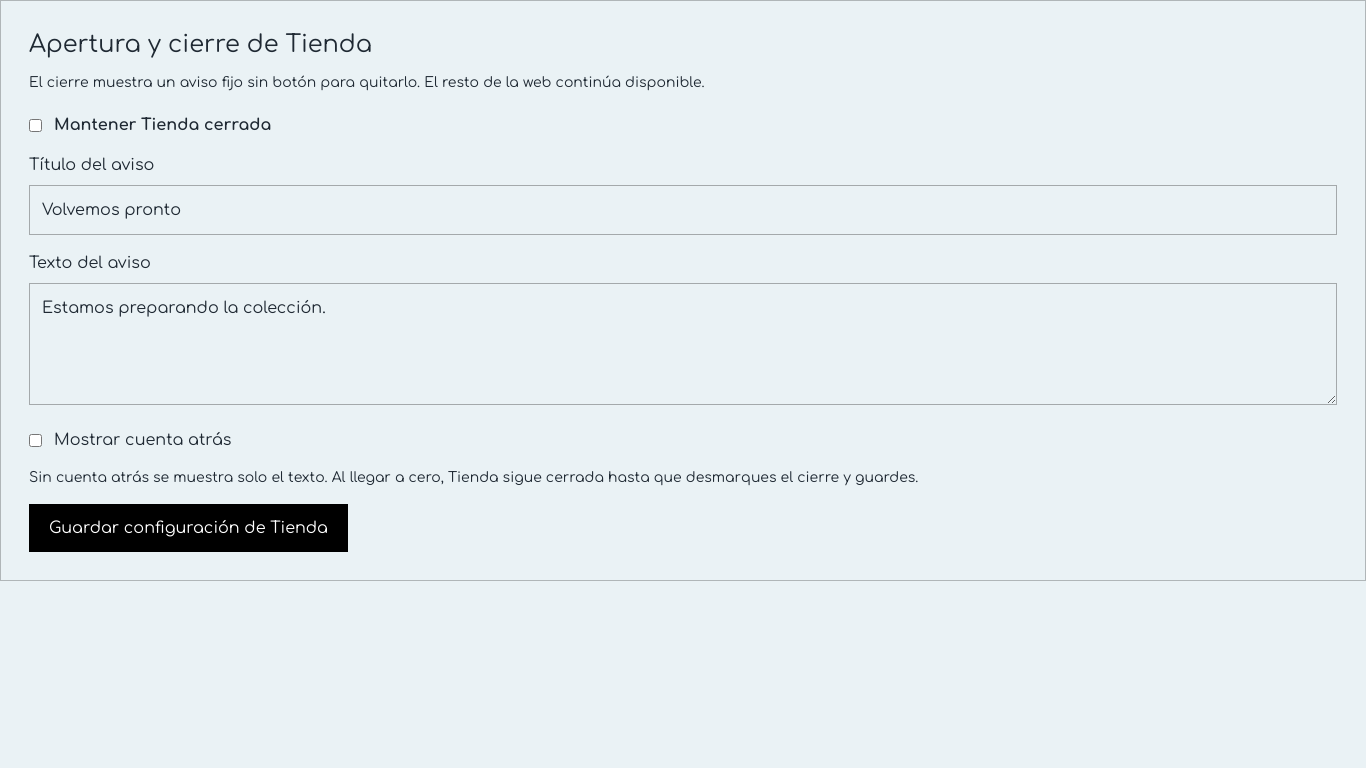
Test: AdminShopSettings › conserva los datos escritos si falla el guardado
The image size is (1366, 768).
Replace the text in the text box labelled "Texto del aviso" with "Aviso actualizado": (683, 344) x1=29 y1=283 x2=1337 y2=405
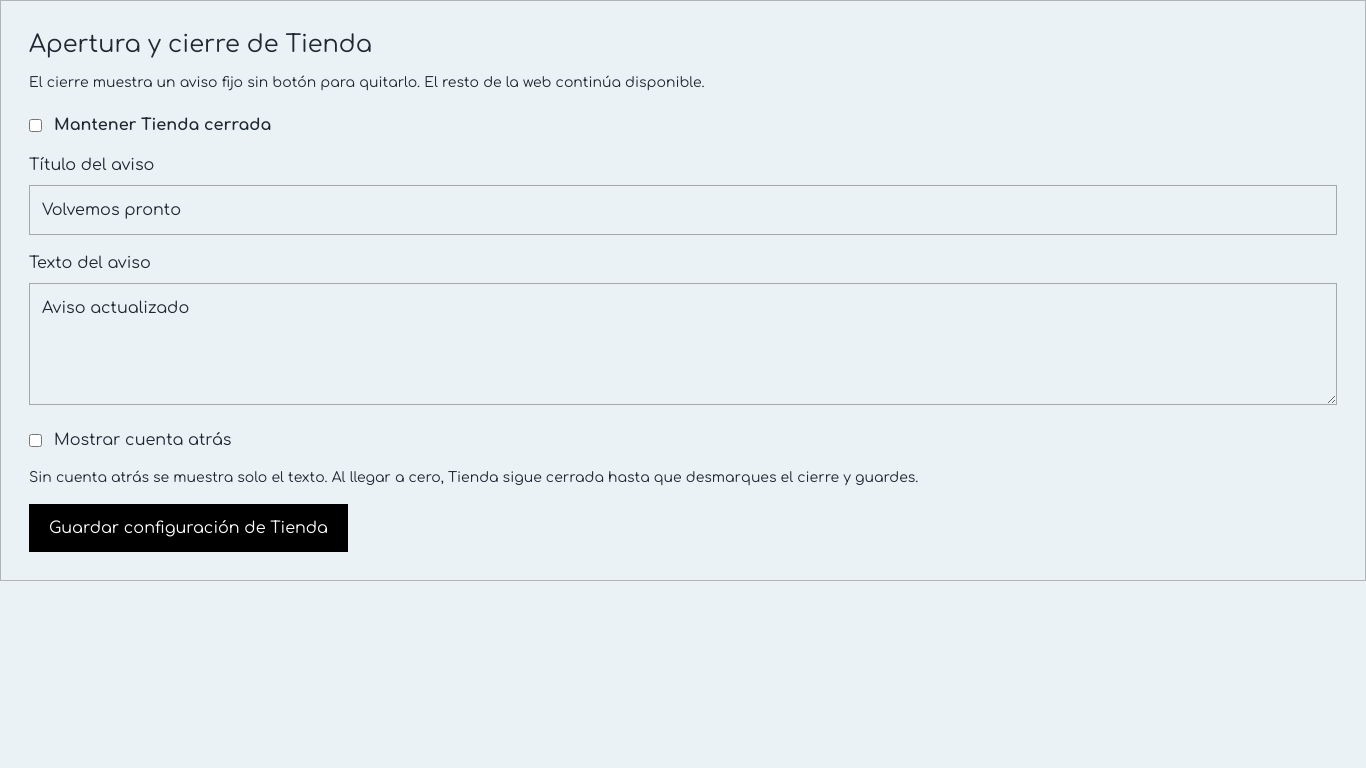
Submit the form, box x1=29 y1=113 x2=1337 y2=552
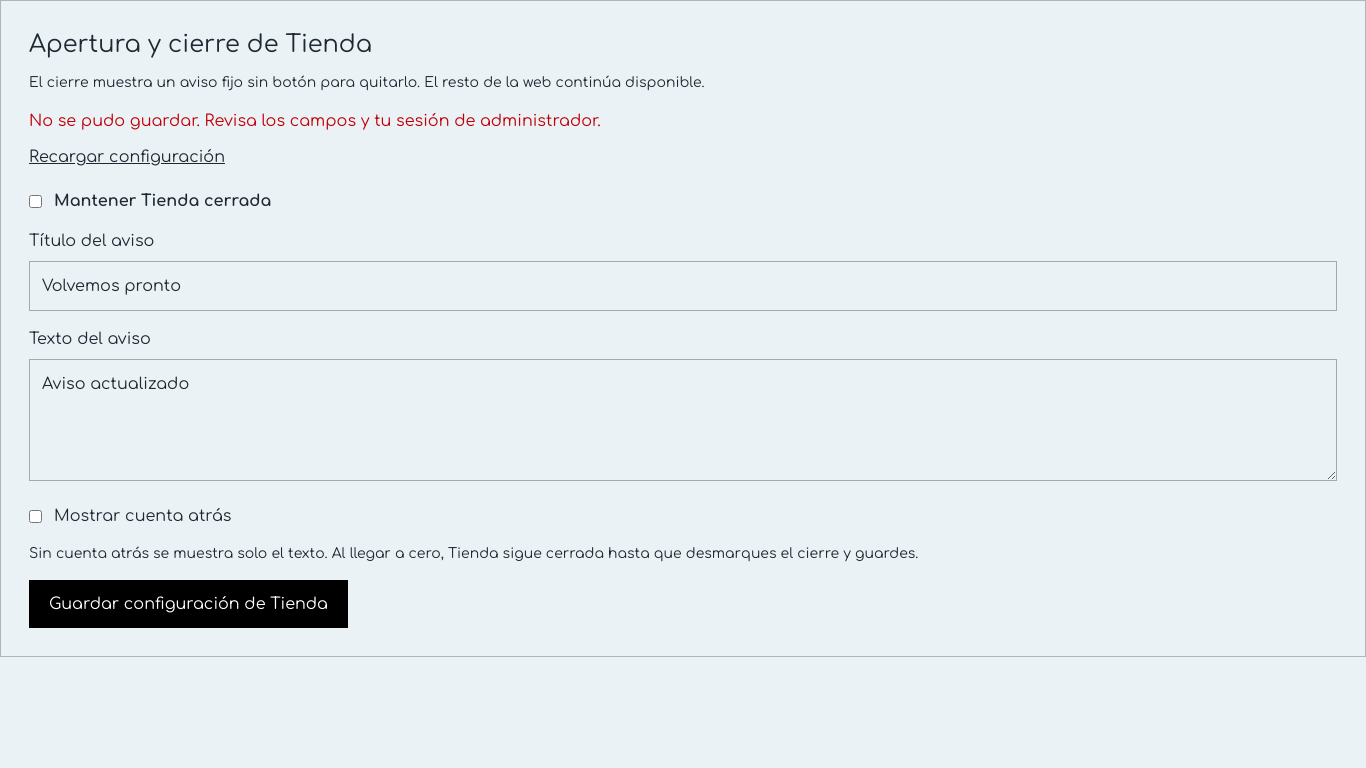
Expected: the message "No se pudo guardar. Revisa los campos y tu sesión de administrador." is shown, x1=29 y1=112 x2=601 y2=130
Submit the form, box x1=29 y1=189 x2=1337 y2=628
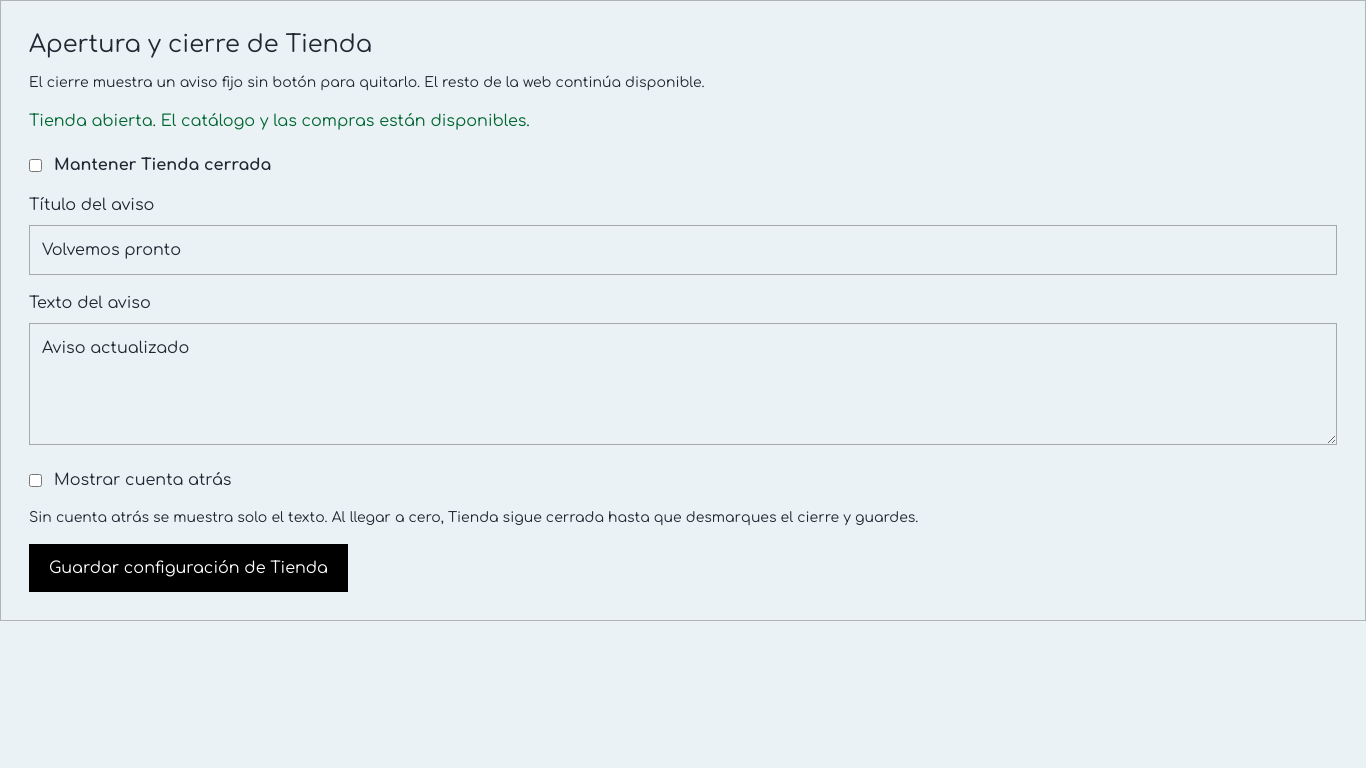
Expected: the message "Tienda abierta. El catálogo y las compras están disponibles." is shown, x1=29 y1=112 x2=530 y2=130
